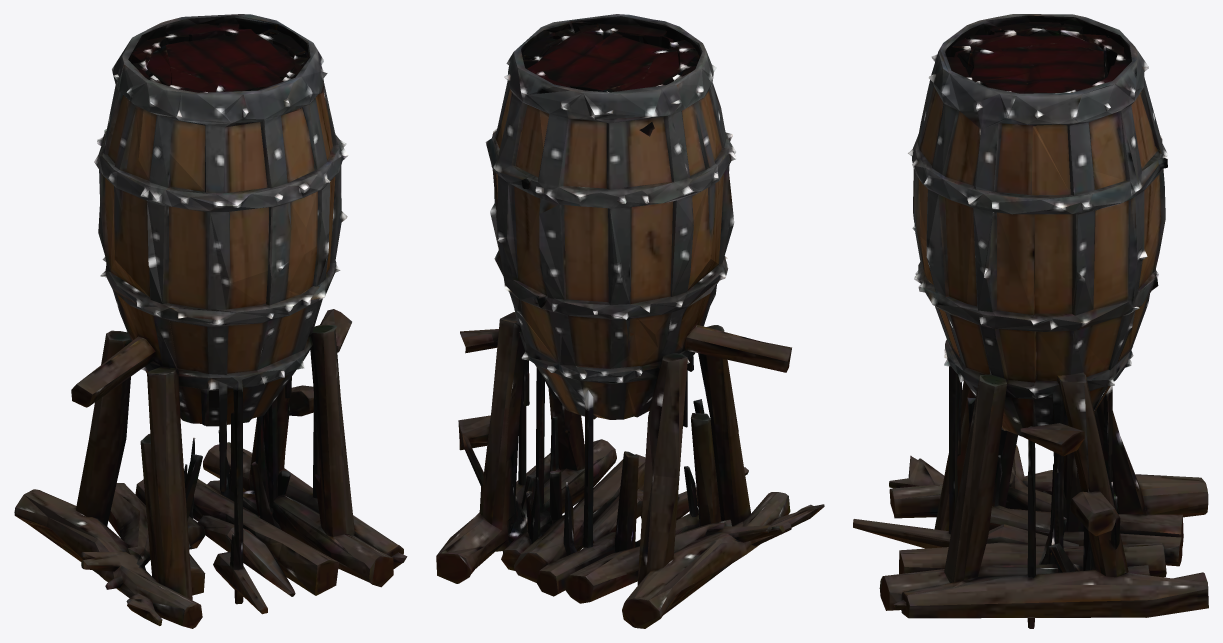
Rendered from orc_war_drum_01.glb.
3 renders of one model, left to right at view 1: azimuth 30°, elevation 25°; view 2: azimuth 150°, elevation 25°; view 3: azimuth 270°, elevation 25°, orthographic. The views are drawn at different scales.
Parts seen in each view (by area): view 1: geometry_0; view 2: geometry_0; view 3: geometry_0.
Part boxes in pixels (x1,y1,x2,y2): geometry_0: [14, 14, 407, 628]; geometry_0: [436, 14, 824, 628]; geometry_0: [853, 14, 1208, 628].
Size of the model in its own units: 0.6249 by 0.9969 by 0.6098.
Materials: 1 (1 with a texture image).
